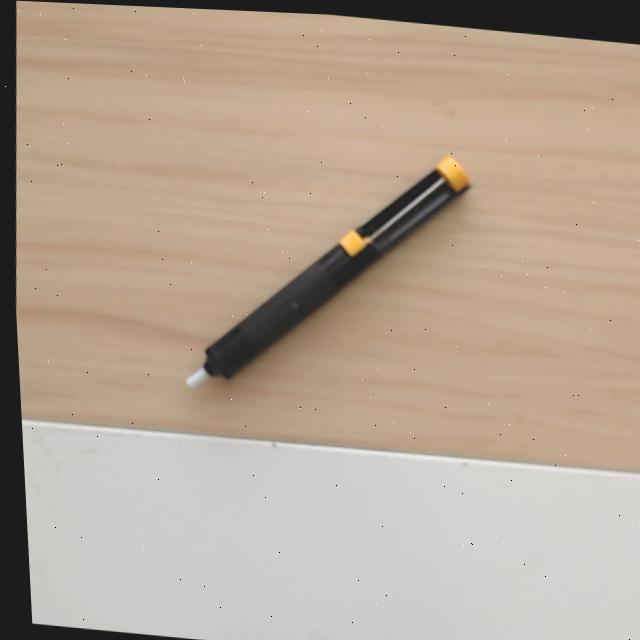Desoldering-Pump: (174, 149, 474, 401)
